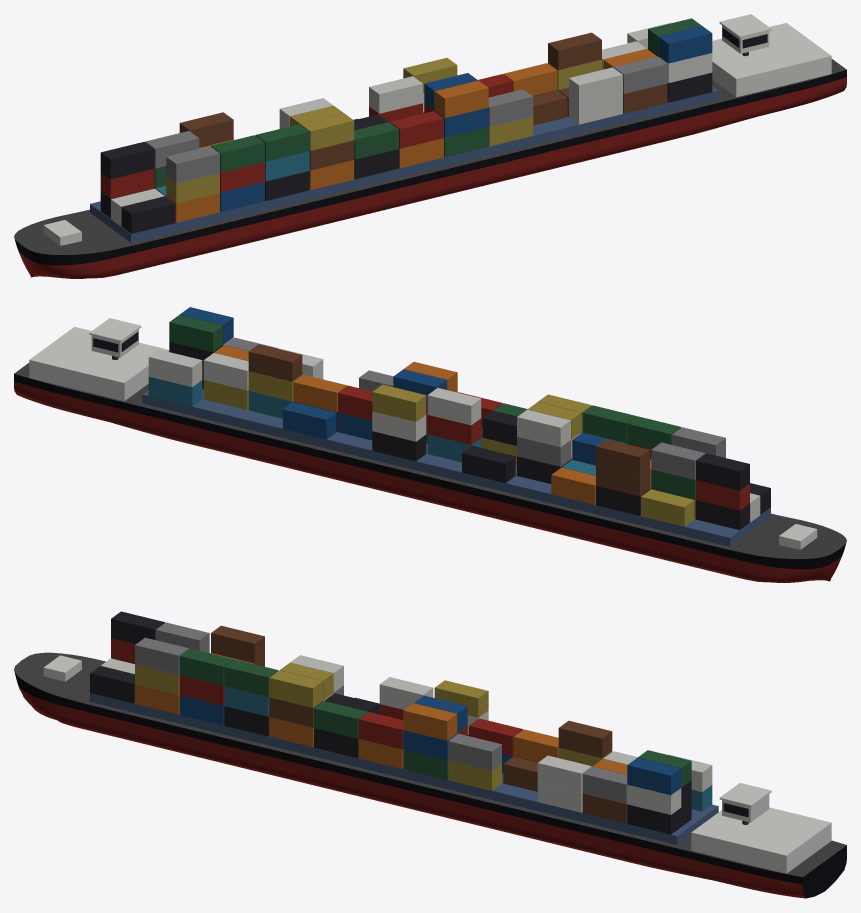
The model's file is inland_cargo.glb.
3 views of the same model, one above another, from view 1: azimuth 30°, elevation 25°; view 2: azimuth 150°, elevation 25°; view 3: azimuth 330°, elevation 25° (orthographic).
Parts seen in each view (by area): view 1: inland_cargo; view 2: inland_cargo; view 3: inland_cargo.
Part boxes in pixels (x1,y1,x2,y2): inland_cargo: (14,14,846,278); inland_cargo: (14,307,846,582); inland_cargo: (14,611,846,898).
Bounding box in the file's own units: 111 × 12.99 × 11.44.
